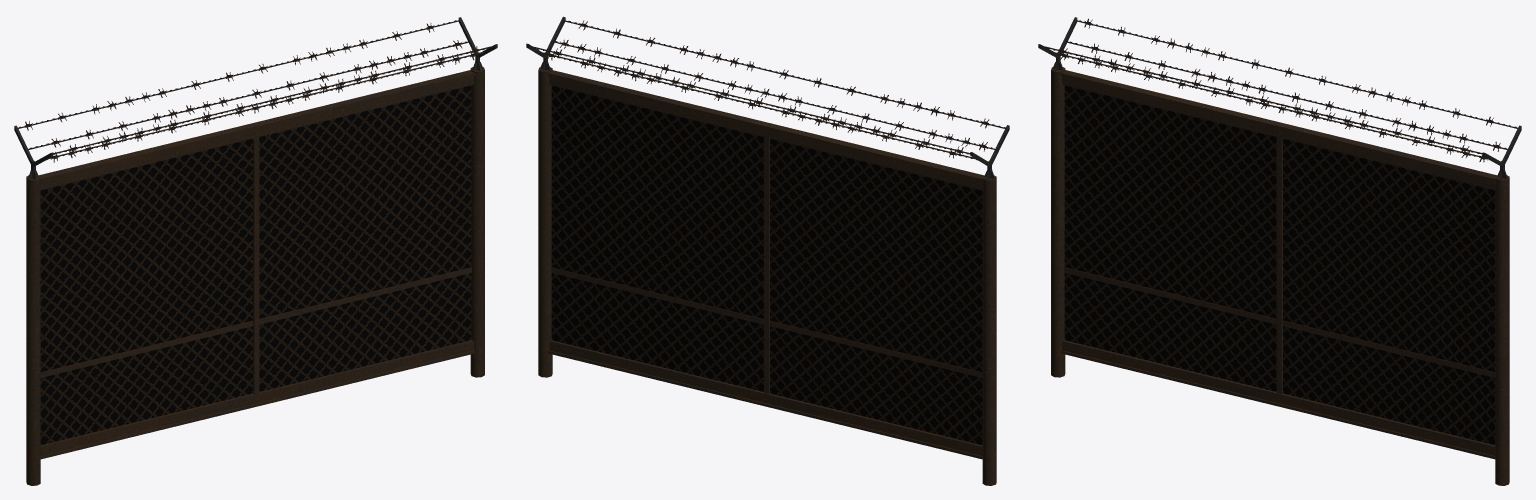
The model's file is fence_e_2.obj.
3 views of the same model, side by side, from view 1: azimuth 30°, elevation 25°; view 2: azimuth 150°, elevation 25°; view 3: azimuth 330°, elevation 25° (orthographic).
Parts seen in each view (by area): view 1: fence_e_2; view 2: fence_e_2; view 3: fence_e_2.
Part boxes in pixels (x1,y1,x2,y2): fence_e_2: (14,17,497,485); fence_e_2: (526,16,1009,485); fence_e_2: (1038,17,1521,485).
Size of the model in its own units: 3.6 by 2.61 by 0.5551.
